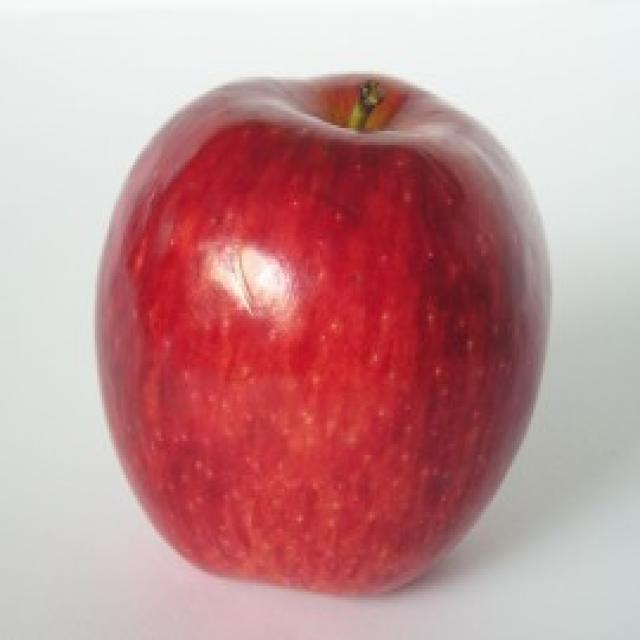Apple: (94, 71, 556, 604)
